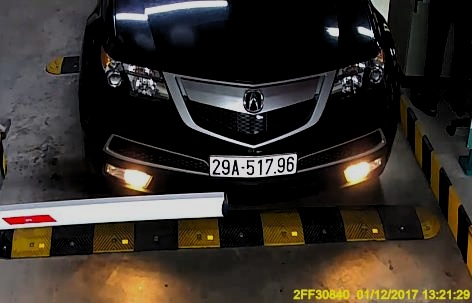plate: (208, 151, 298, 180)
